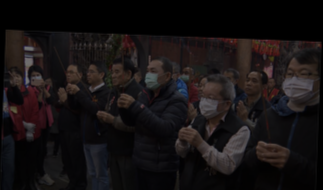with_mask: (280, 63, 318, 103), (198, 90, 223, 119), (144, 65, 166, 90), (179, 67, 191, 84), (29, 71, 42, 84)
without_mask: (242, 75, 261, 93), (109, 66, 123, 87), (65, 67, 79, 83), (85, 67, 98, 83), (9, 72, 21, 86), (265, 79, 274, 89)
